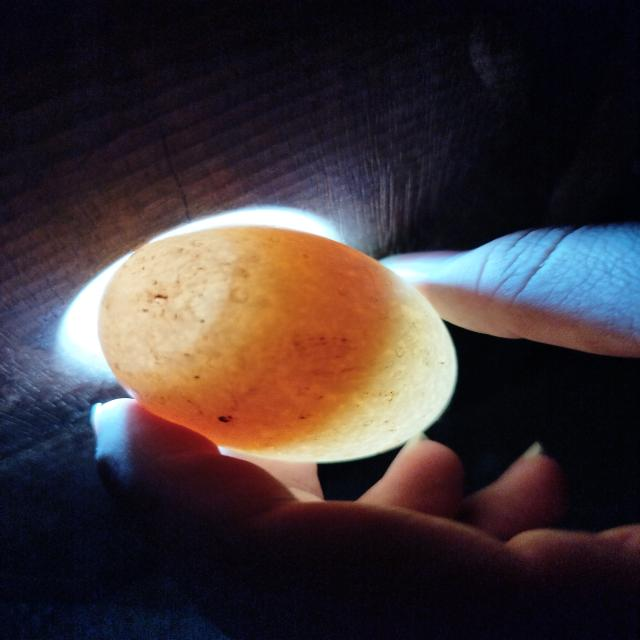Camara de Ar: (99, 231, 237, 371)
Gema Quebrada: (119, 225, 397, 453)
